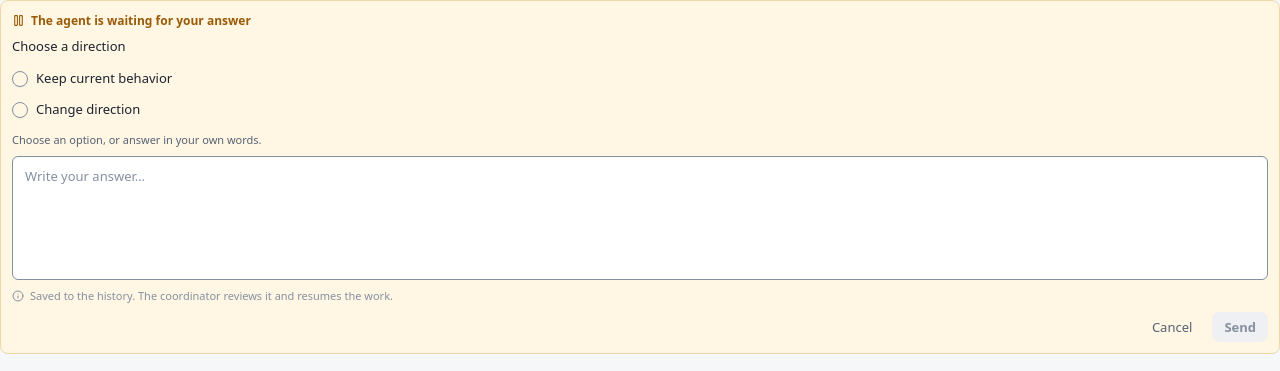
Test case: DecisionRequestForm › keeps choice and free text while sending and ignores a second submit
Click the radio button named "Keep current behavior" next to "Keep current behavior" at x=20, y=78, box [12,70,28,86]
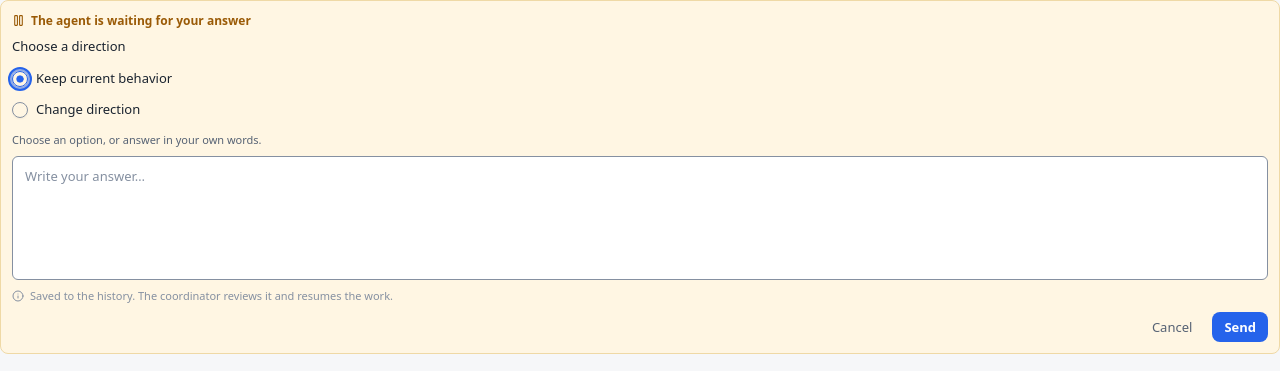
Type "Keep the details" into the text box labelled "your answer" at x=640, y=218, box [12,156,1268,280]
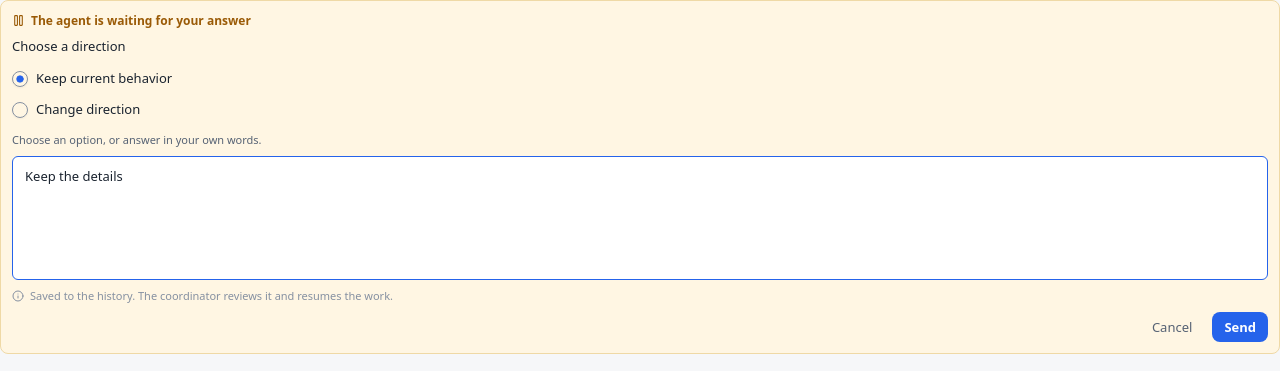
Click the button "Send" at x=1240, y=327, box [1212,312,1268,342]
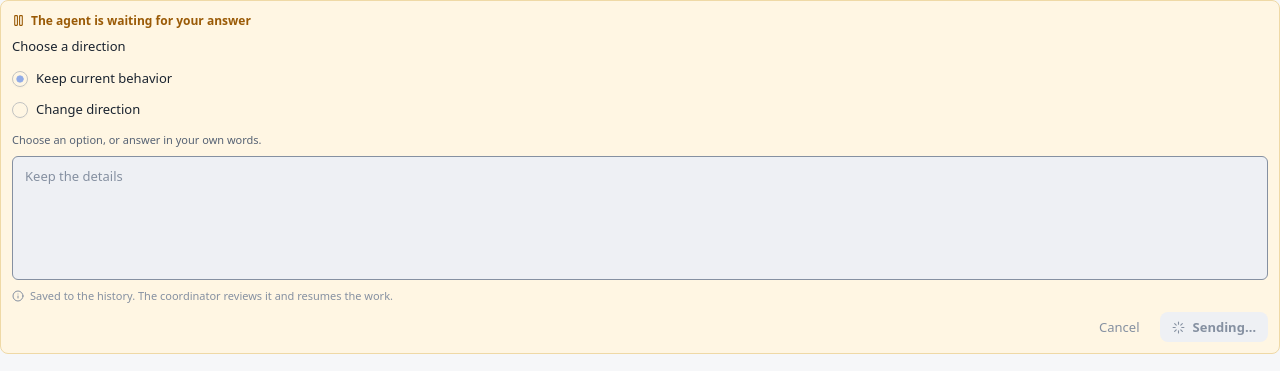
expect the button "Sending…" is disabled: met
expect the text box named "your answer" is disabled: met, box [12,156,1268,280]
Click the button "Sending…" at x=1214, y=327, box [1160,312,1268,342]
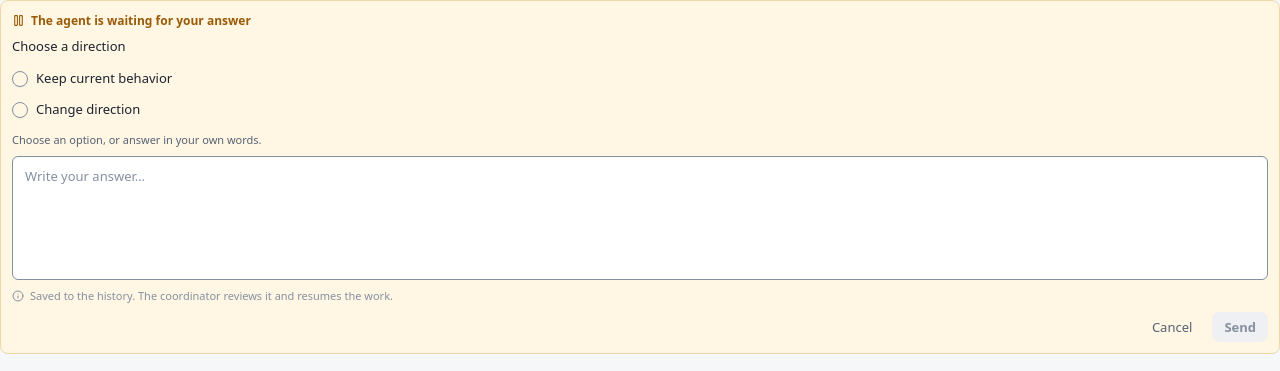
expect the button "Send" is disabled: met, box [1212,312,1268,342]
expect the text box labelled "your answer" is empty: met, box [12,156,1268,280]
